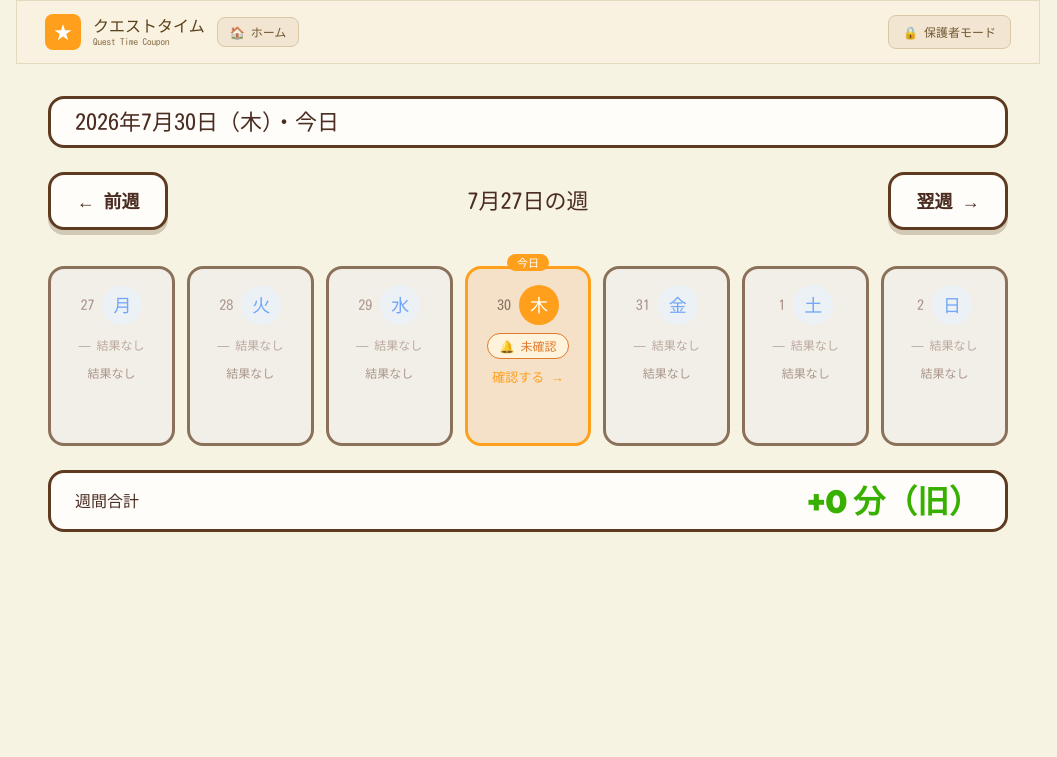
Test: ResultsPage week UI (#17) › home再取得に失敗しても結果確認後の残高をタイマーへ引き継ぐ
The image size is (1057, 757).
Click the button with test id "results-day-2026-07-30" at (528, 356), box [465,266,592,446]
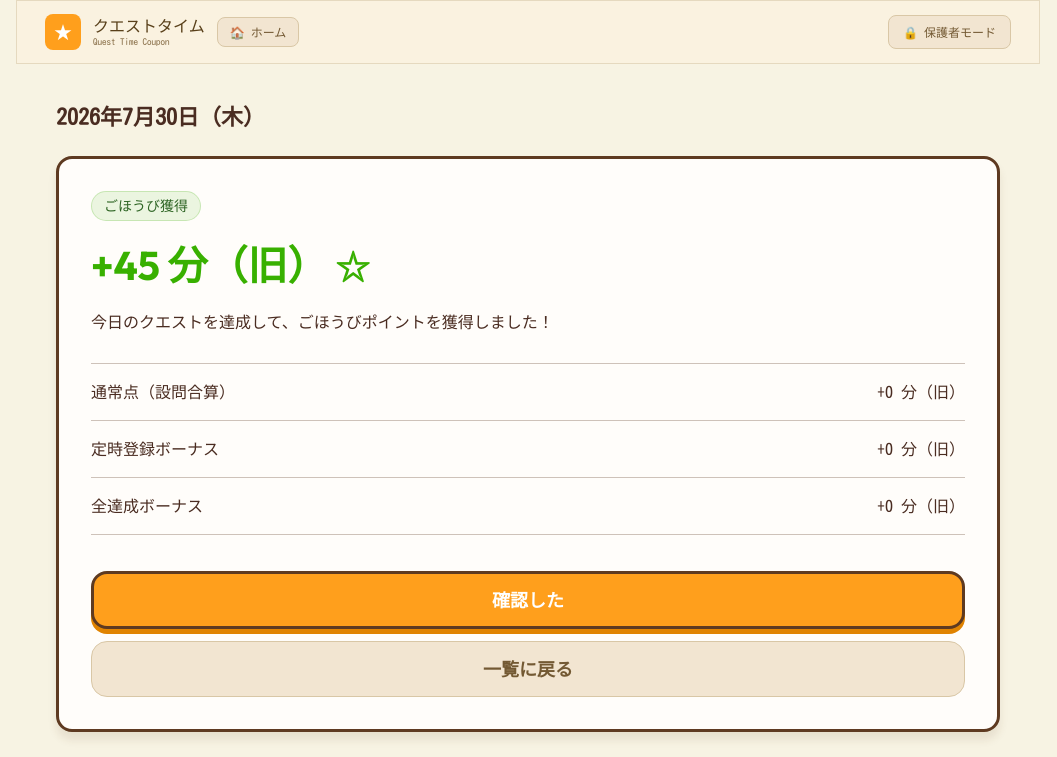
Click the button with test id "results-ack-button" at (528, 600), box [91,570,965,628]
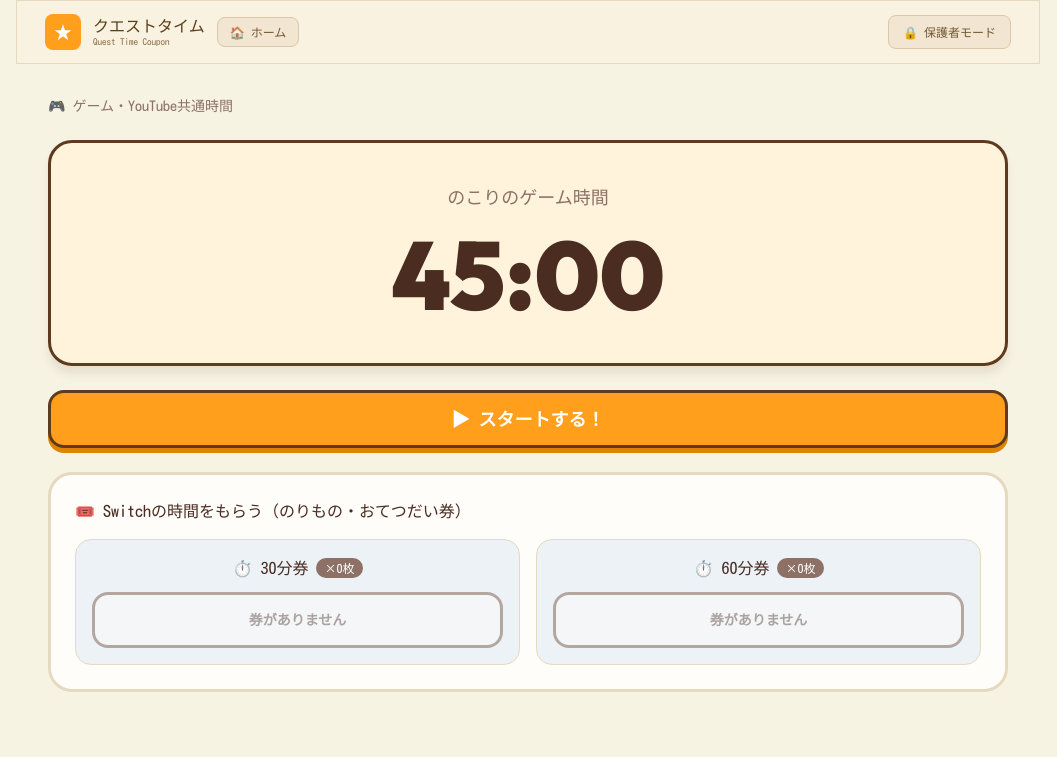
Expected: the text "45:00" is shown, [391,227,665,323]
Expected: the button "▶ スタートする！" is enabled, [48,390,1008,448]
